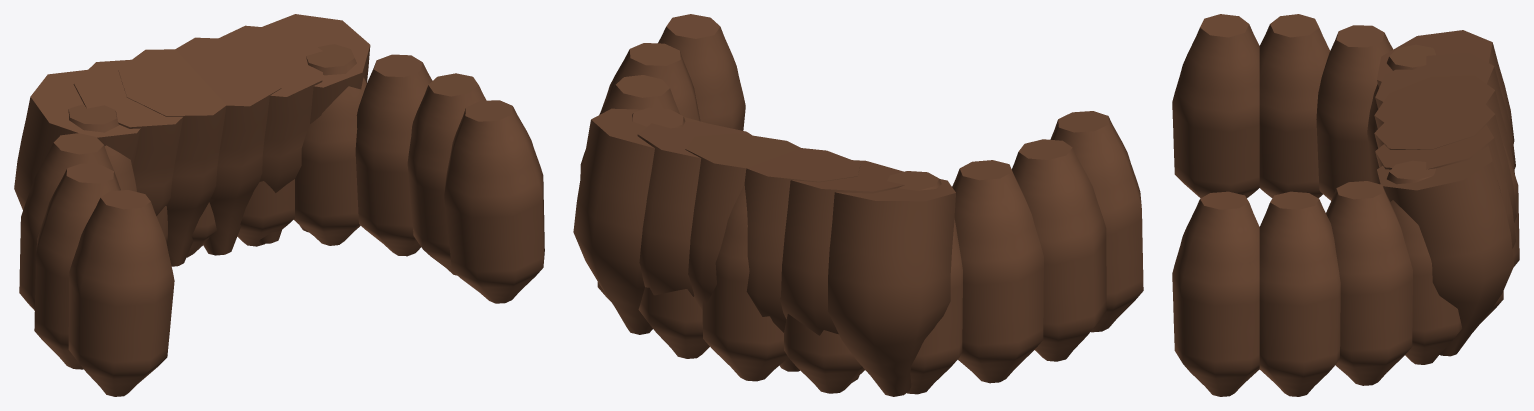
The model's file is hair_long_sway.glb.
3 views of the same model, side by side, from view 1: azimuth 30°, elevation 25°; view 2: azimuth 150°, elevation 25°; view 3: azimuth 270°, elevation 25° (orthographic). The views are drawn at different scales.
Visible parts, largest first — view 1: lock; view 2: lock; view 3: lock.
Part boxes in pixels (x1,y1,x2,y2): lock: [14, 14, 544, 396]; lock: [573, 14, 1143, 396]; lock: [1172, 14, 1519, 396].
Size of the model in its own units: 2.57 by 1.06 by 1.69.
